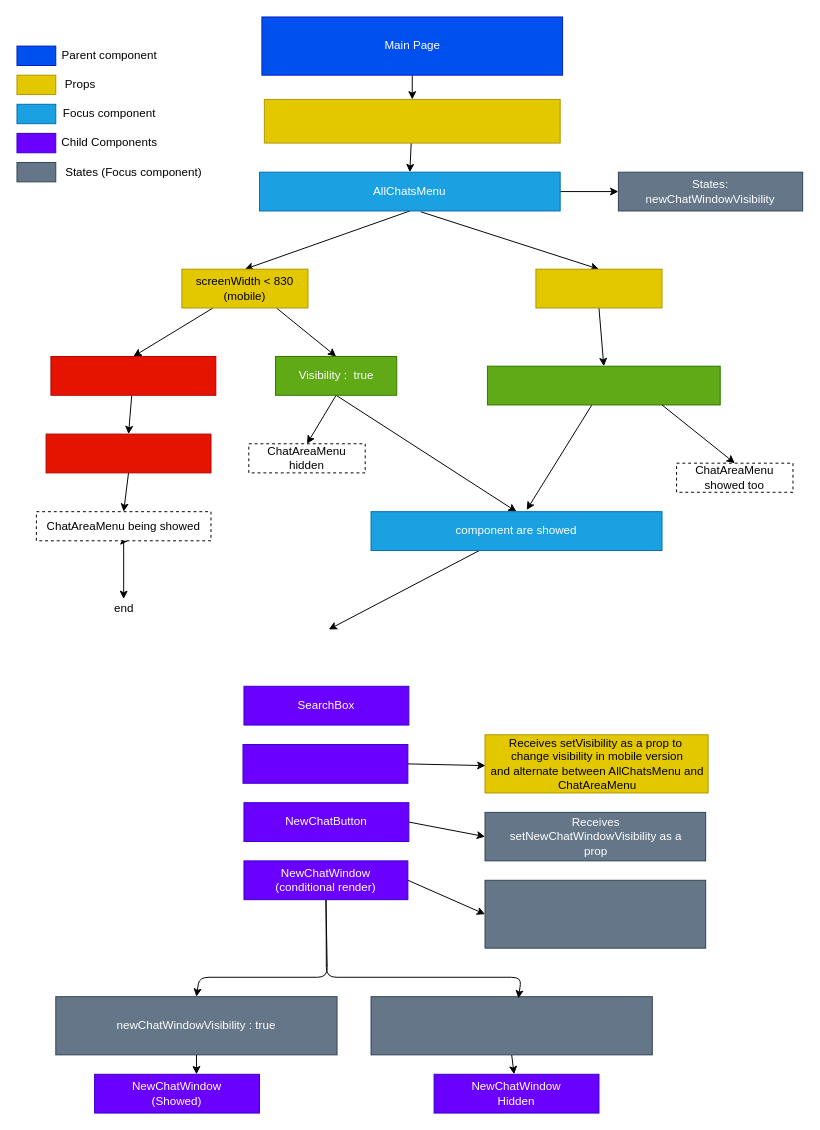
Image size: 820x1130. Some labels were removed from this diagram. Each missing label, with the centre of its shape:
ChatCard: point (325, 763)
newChatWindowVisibility : false: point (511, 1025)
Receives NewChatWindowVisibility and setNewChatVisibility as a props: point (595, 913)
screenWidth > 830 (desktop): point (598, 288)
screenWidth, visibility, setVisibility: point (411, 120)
Then this component aren't showed (AllChatsMenu): point (128, 453)
Visibility : false: point (133, 375)
Visibility : true (always true in desktop): point (603, 385)
